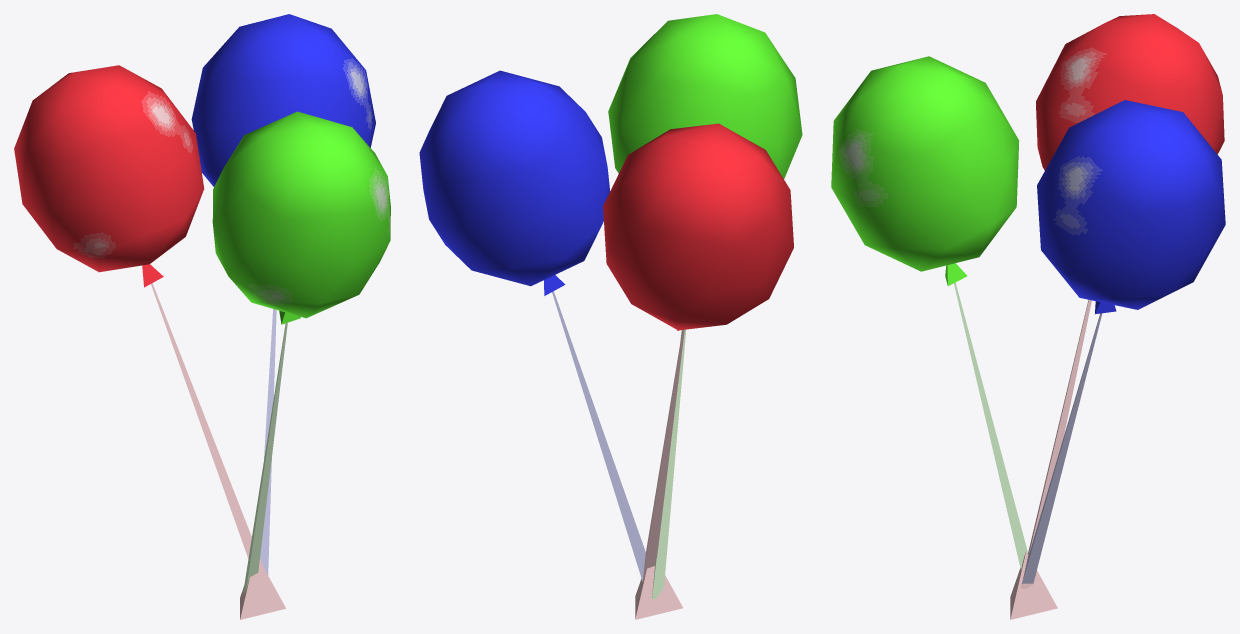
File: Bunch.fbx
3 views of the same model, side by side, from view 1: azimuth 30°, elevation 25°; view 2: azimuth 150°, elevation 25°; view 3: azimuth 270°, elevation 25° (orthographic). The views are drawn at different scales.
Visible parts, largest first — view 1: Cone.002, Cone.003, Cone.001, Cone; view 2: Cone.001, Cone.002, Cone.003, Cone; view 3: Cone.003, Cone.001, Cone.002, Cone.
Boxes of the visible parts, bbox=[...] form: Cone.002: bbox=[14, 65, 263, 566]; Cone.003: bbox=[212, 111, 390, 593]; Cone.001: bbox=[191, 14, 375, 575]; Cone: bbox=[240, 561, 285, 619]; Cone.001: bbox=[419, 70, 645, 581]; Cone.002: bbox=[603, 123, 793, 582]; Cone.003: bbox=[608, 14, 802, 599]; Cone: bbox=[635, 566, 682, 619]; Cone.003: bbox=[831, 56, 1027, 568]; Cone.001: bbox=[1022, 100, 1225, 583]; Cone.002: bbox=[1021, 14, 1224, 588]; Cone: bbox=[1010, 551, 1057, 619].
Size of the model in its own units: 410 by 617 by 407.
3 materials, 3 textured.
